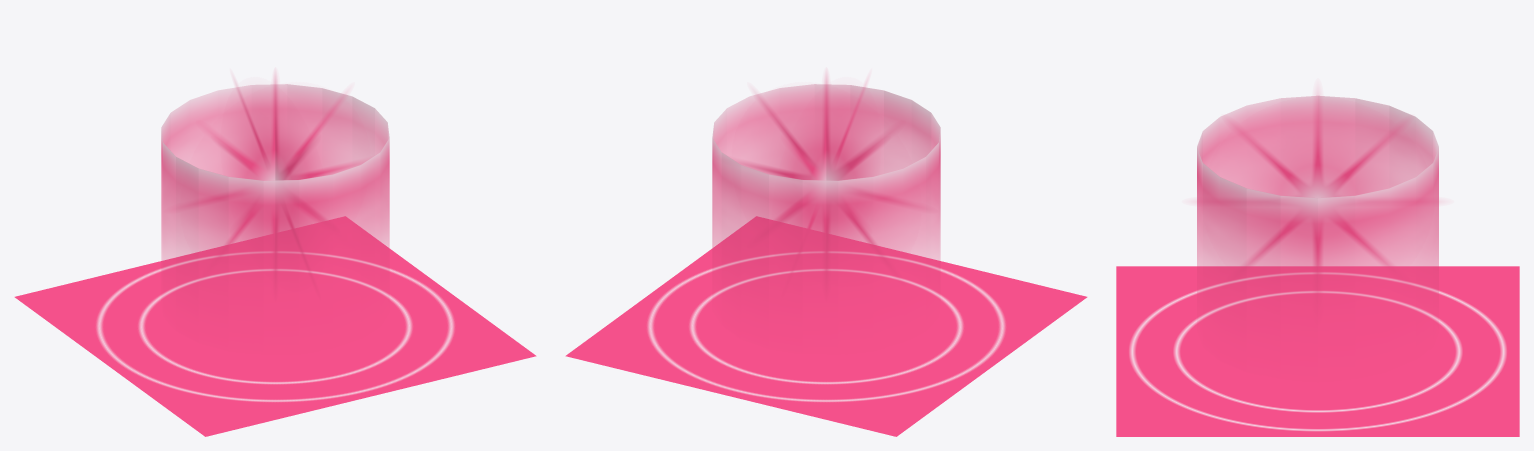
The model's file is fx_boom.glb.
3 renders of one model, left to right at view 1: azimuth 30°, elevation 25°; view 2: azimuth 150°, elevation 25°; view 3: azimuth 270°, elevation 25°, orthographic. The views are drawn at different scales.
Parts seen in each view (by area): view 1: fx_boom_ring, fx_boom_wall, fx_boom_flash; view 2: fx_boom_ring, fx_boom_wall, fx_boom_flash; view 3: fx_boom_ring, fx_boom_wall, fx_boom_flash.
Part boxes in pixels (box(x1,y1,x2,y2)): fx_boom_ring: box(14, 216, 536, 436); fx_boom_wall: box(161, 84, 389, 306); fx_boom_flash: box(191, 73, 366, 293); fx_boom_ring: box(565, 216, 1087, 436); fx_boom_wall: box(712, 84, 940, 310); fx_boom_flash: box(735, 73, 911, 292); fx_boom_ring: box(1116, 266, 1519, 436); fx_boom_wall: box(1197, 95, 1438, 330); fx_boom_flash: box(1225, 92, 1412, 305).
Size of the model in its own units: 1 by 0.8 by 1.
3 materials, 3 textured.
